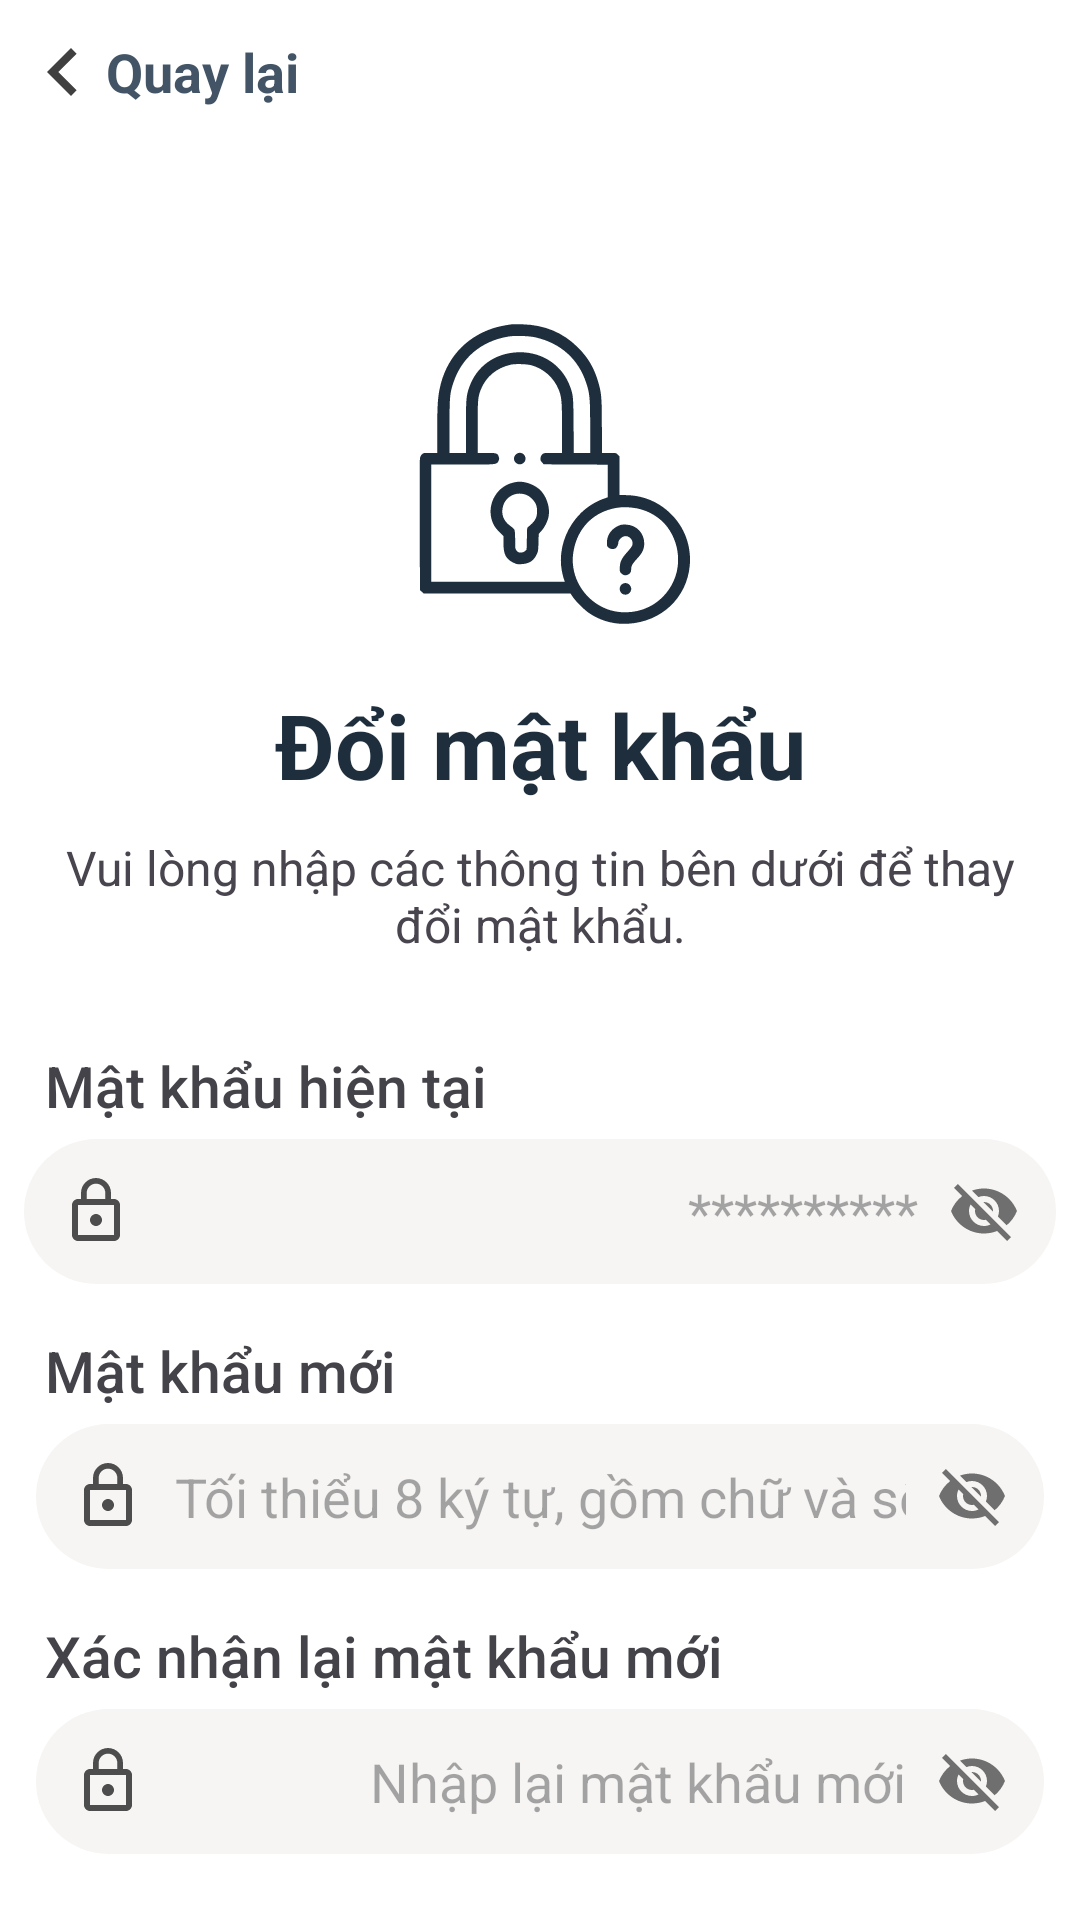

Locate icon controls on the screen. Image size 1080w x 1920h, boxes as (x1, y1, x2, y2).
forgot password: (419, 324, 690, 624)
